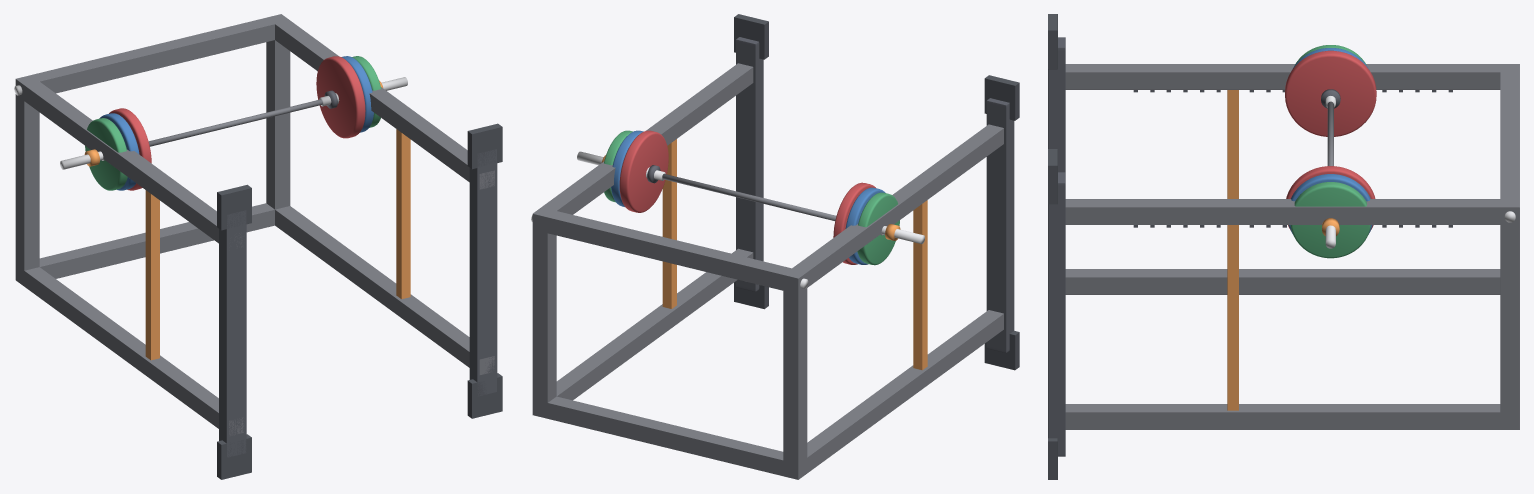
Rendered from squat_rack.glb.
The picture shows the model from 3 angles, left to right: view 1: azimuth 30°, elevation 25°; view 2: azimuth 150°, elevation 25°; view 3: azimuth 270°, elevation 25°; orthographic projection. The views are drawn at different scales.
Visible parts, largest first — view 1: foot_0.82, foot_-0.82, post_-0.82_-0.58, post_0.82_-0.58, top_x_0.58, post_-0.82_0.58, post_0.82_0.58, top_x_-0.58, top_z_-0.82, top_z_0.82, plate_1_0, safety_-0.82 (+10 smaller); view 2: post_-0.82_-0.58, foot_-0.82, top_x_0.58, post_-0.82_0.58, top_x_-0.58, foot_0.82, post_0.82_-0.58, post_0.82_0.58, top_z_-0.82, top_z_0.82, plate_1_0, safety_-0.82 (+10 smaller); view 3: post_0.82_-0.58, post_-0.82_-0.58, post_0.82_0.58, post_-0.82_0.58, plate_-1_0, foot_0.82, top_z_0.82, plate_1_2, top_x_0.58, safety_0.82, foot_-0.82, safety_-0.82 (+4 smaller).
Boxes of the visible parts, x1,y1,x2,y2 form: foot_0.82: (469,149,497,396); foot_-0.82: (219,210,246,457); post_-0.82_-0.58: (16,266,243,435); post_0.82_-0.58: (275,206,494,374); top_x_0.58: (15,14,285,100); post_-0.82_0.58: (16,79,242,247); post_0.82_0.58: (269,15,494,189); top_x_-0.58: (15,203,274,285); top_z_-0.82: (15,75,39,279); top_z_0.82: (266,14,290,209); plate_1_0: (316,56,365,138); safety_-0.82: (145,190,159,360); post_-0.82_-0.58: (783,310,1003,479); foot_-0.82: (986,98,1014,352); top_x_0.58: (534,208,807,294); post_-0.82_0.58: (783,124,1003,294); top_x_-0.58: (547,396,807,479); foot_0.82: (736,37,763,291); post_0.82_-0.58: (532,248,753,418); post_0.82_0.58: (532,63,753,232); top_z_-0.82: (783,269,807,476); top_z_0.82: (532,208,556,402); plate_1_0: (619,130,668,212); safety_-0.82: (913,200,927,370); post_0.82_-0.58: (1065,404,1516,429); post_-0.82_-0.58: (1065,269,1500,294); post_0.82_0.58: (1065,199,1516,224); post_-0.82_0.58: (1065,64,1514,89); plate_-1_0: (1285,50,1376,136); foot_0.82: (1048,172,1065,456); top_z_0.82: (1500,206,1519,429); plate_1_2: (1290,182,1370,258); top_x_0.58: (1500,64,1519,224); safety_0.82: (1227,225,1238,410); foot_-0.82: (1048,37,1065,172); safety_-0.82: (1227,90,1238,198).
Size of the model in its own units: 2.25 by 1.78 by 2.42.
